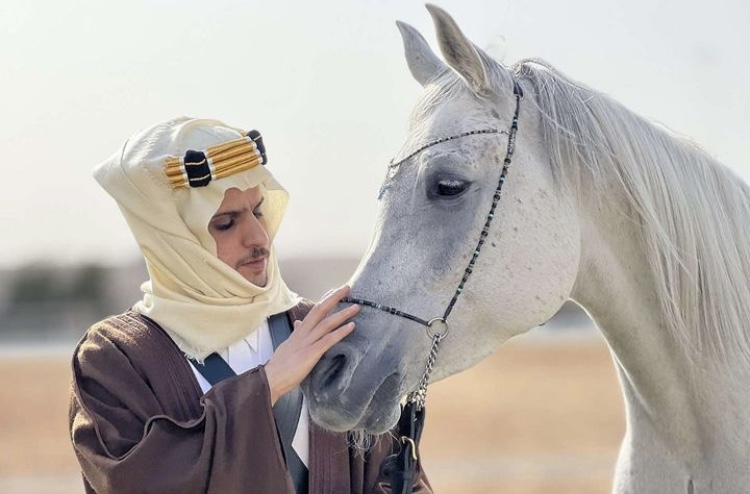Saudi_Founding_Day: (66, 113, 434, 494)
